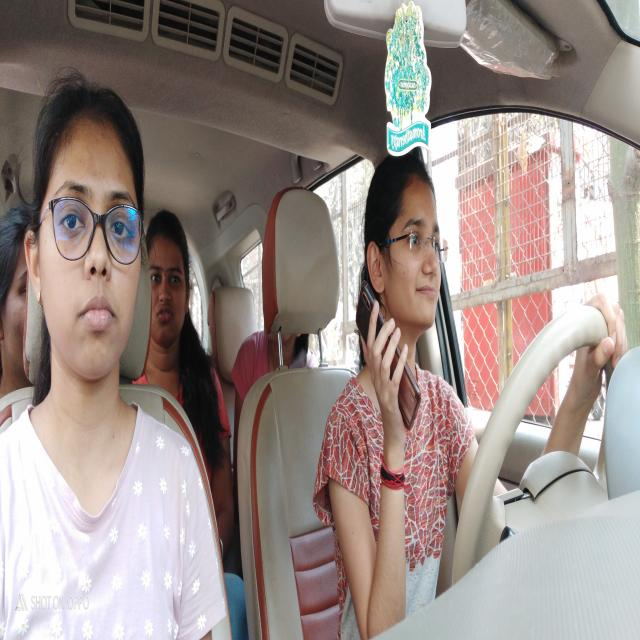mobile: (357, 284, 422, 448)
person: (24, 75, 145, 396), (367, 147, 445, 360), (143, 206, 193, 360), (3, 198, 37, 392)
